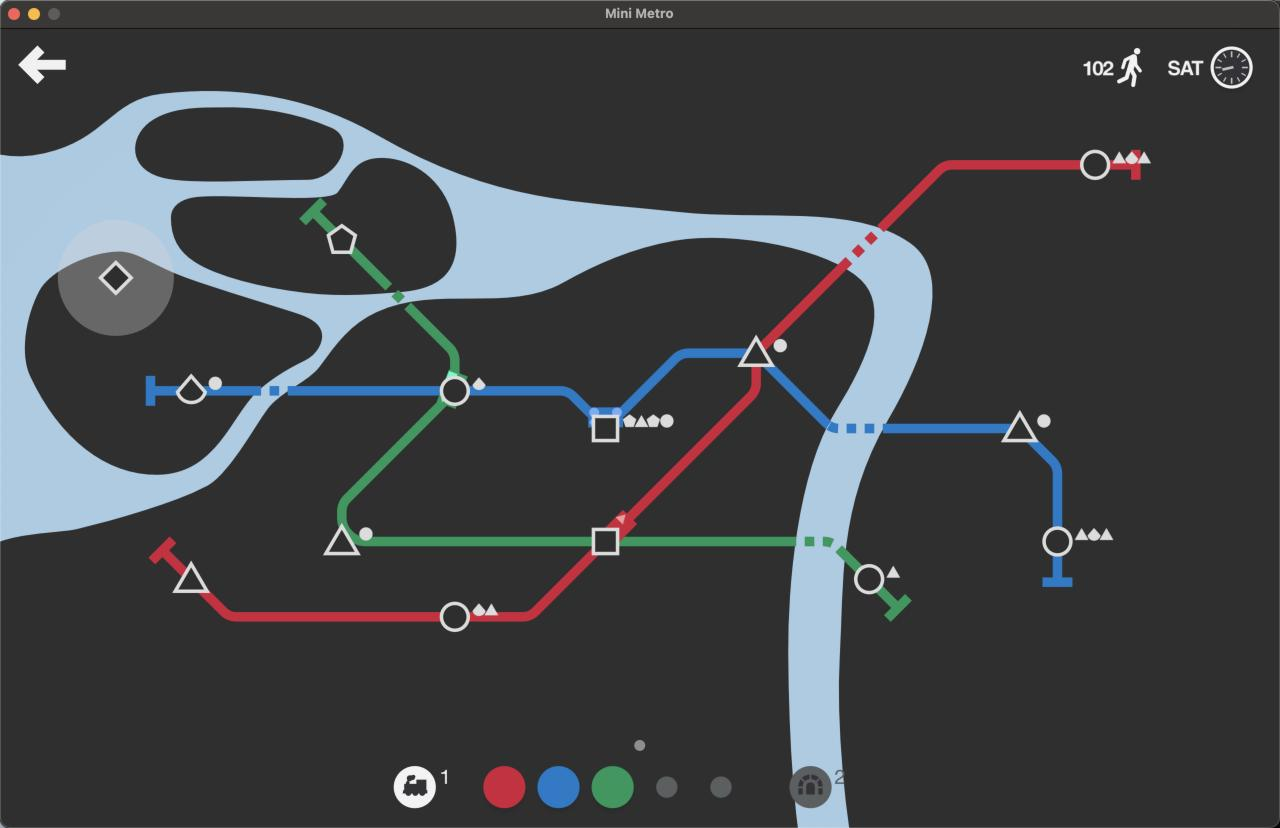CIRCLE: (1041, 525, 1074, 558), (439, 374, 471, 408), (439, 600, 471, 633), (1079, 148, 1111, 181), (854, 563, 885, 595)
GEM: (97, 260, 133, 295)
PENTAGON: (326, 224, 356, 255)
SQUARE: (590, 412, 621, 444), (590, 526, 620, 557)
TRIANGLE: (1000, 409, 1040, 444), (172, 560, 211, 595), (322, 523, 361, 558), (738, 334, 776, 369)
WEDGE: (175, 373, 207, 405)
